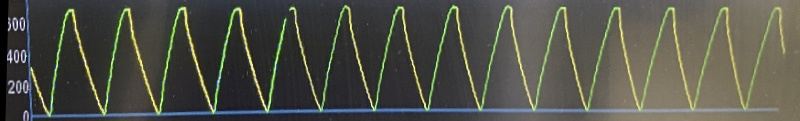normal_volume: (43, 0, 760, 115)
